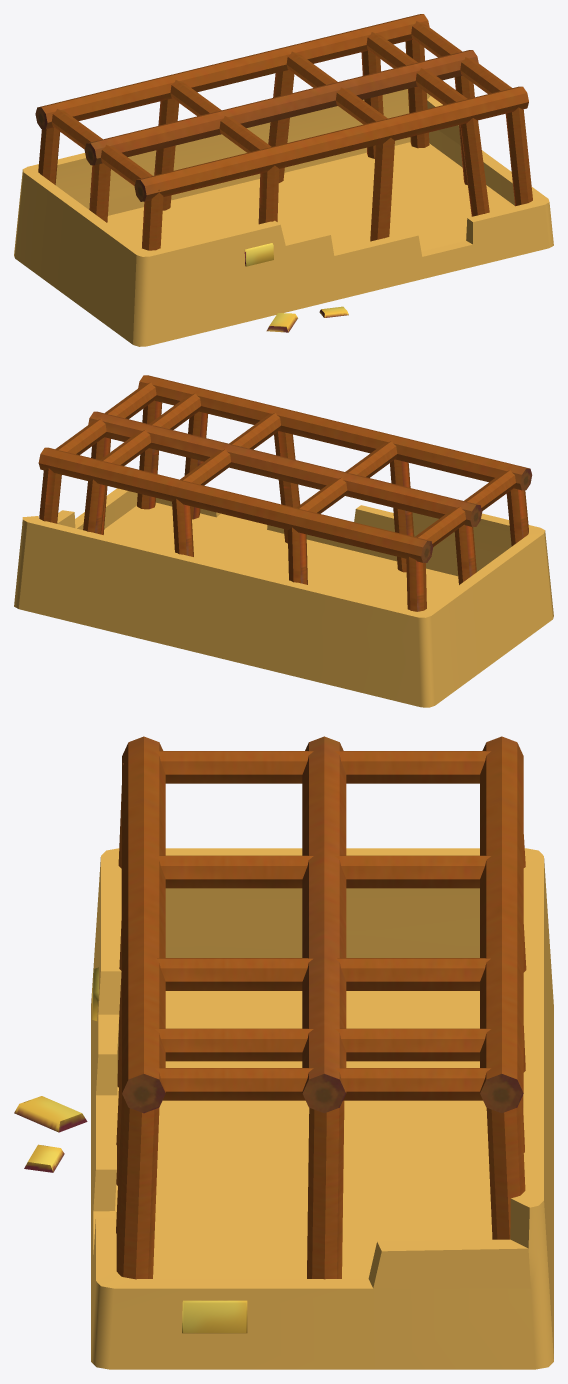
The model's file is arabian_house_a_little.fbx.
3 views of the same model, one above another, from view 1: azimuth 30°, elevation 25°; view 2: azimuth 150°, elevation 25°; view 3: azimuth 270°, elevation 25° (orthographic). The views are drawn at different scales.
Parts seen in each view (by area): view 1: arabian_house_a_little; view 2: arabian_house_a_little; view 3: arabian_house_a_little.
Part boxes in pixels (<box>): arabian_house_a_little: <box>14,14,553,346</box>; arabian_house_a_little: <box>14,375,553,707</box>; arabian_house_a_little: <box>14,736,553,1369</box>.
Bounding box in the file's own units: 4.47 × 1.57 × 2.75.
